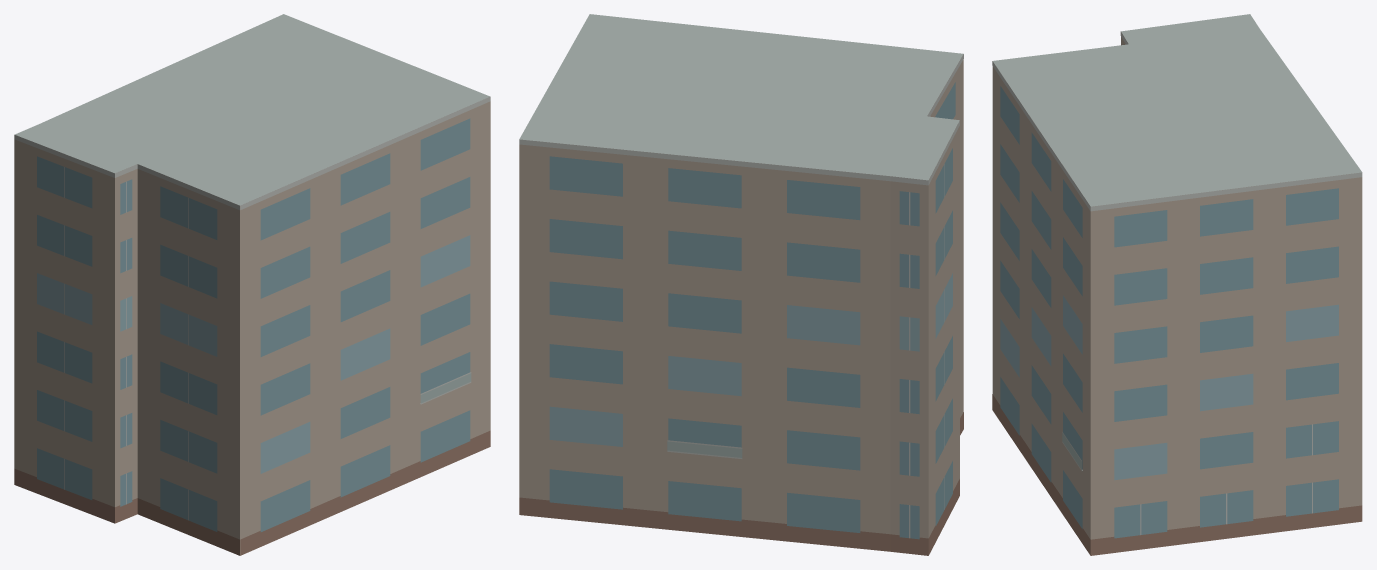
File: survey-upis-32579180.glb
3 renders of one model, left to right at view 1: azimuth 30°, elevation 25°; view 2: azimuth 150°, elevation 25°; view 3: azimuth 270°, elevation 25°, orthographic. The views are drawn at different scales.
Parts seen in each view (by area): view 1: survey-upis-32579180.tmp; view 2: survey-upis-32579180.tmp; view 3: survey-upis-32579180.tmp.
Boxes of the visible parts, x1,y1,x2,y2 form: survey-upis-32579180.tmp: (14,14,490,555); survey-upis-32579180.tmp: (519,14,963,555); survey-upis-32579180.tmp: (992,14,1362,555).
Bounding box in the file's own units: 21.49 × 18.15 × 17.44.
